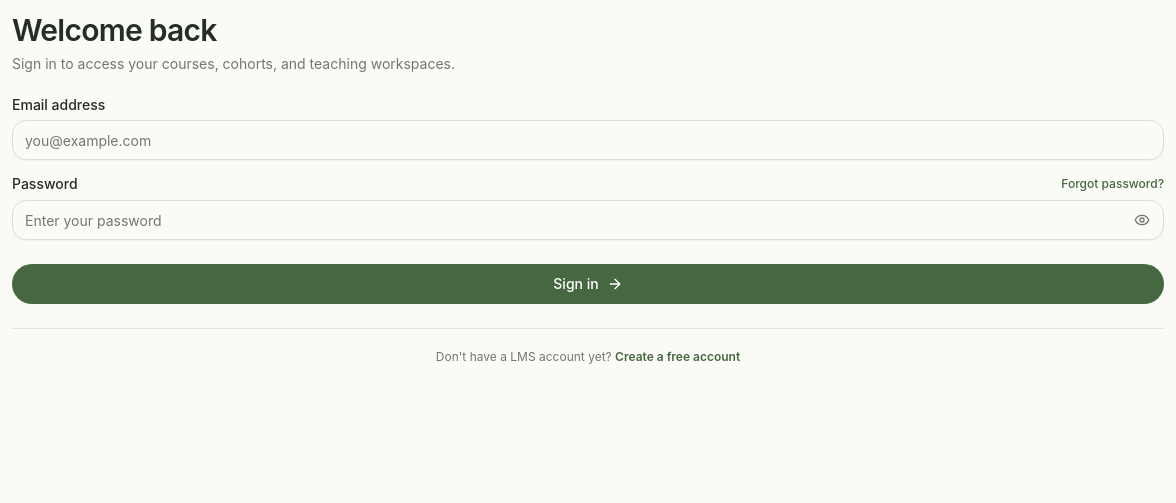
Auth forms (Zod validation + TanStack Query mutations) › renders an accessible alert banner with requestId when LoginForm encounters an ApiError
Type "learner@example.com" into the field labelled "Email address" at (588, 140), box [12,120,1164,160]
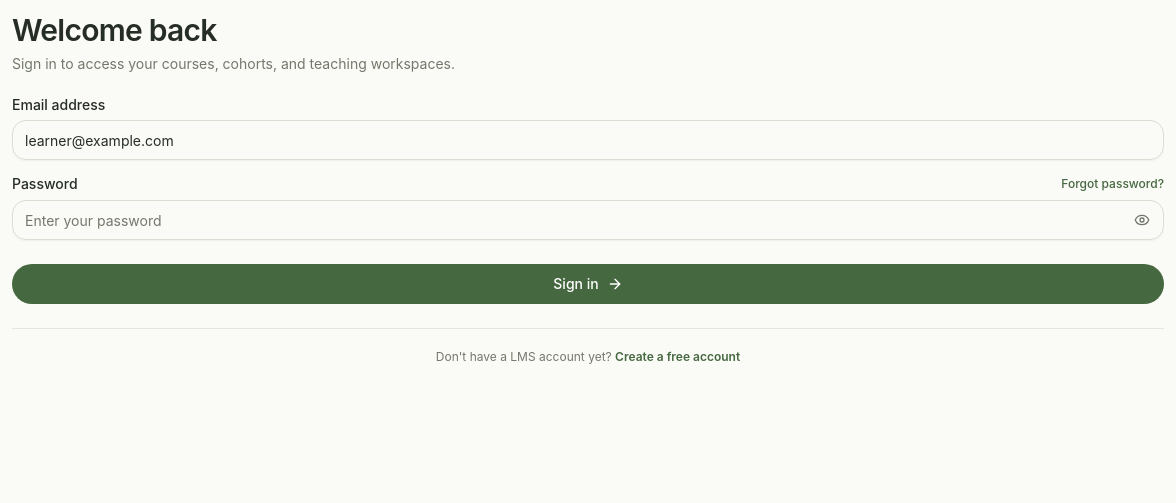
Type "wrong-password-123" into the password field labelled "Password" at (588, 220), box [12,200,1164,240]
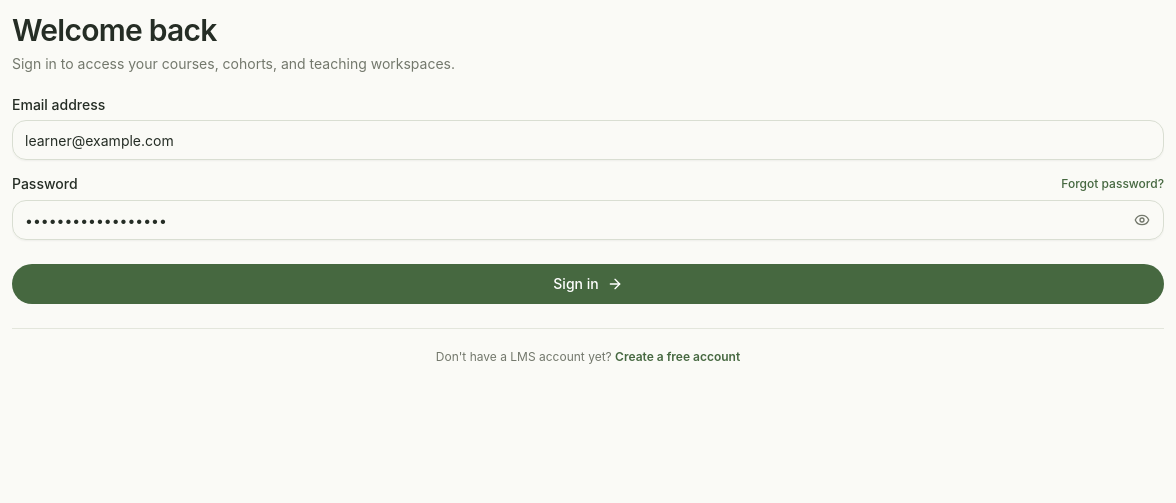
Click the button "Sign in" at (588, 284), box [12,264,1164,304]
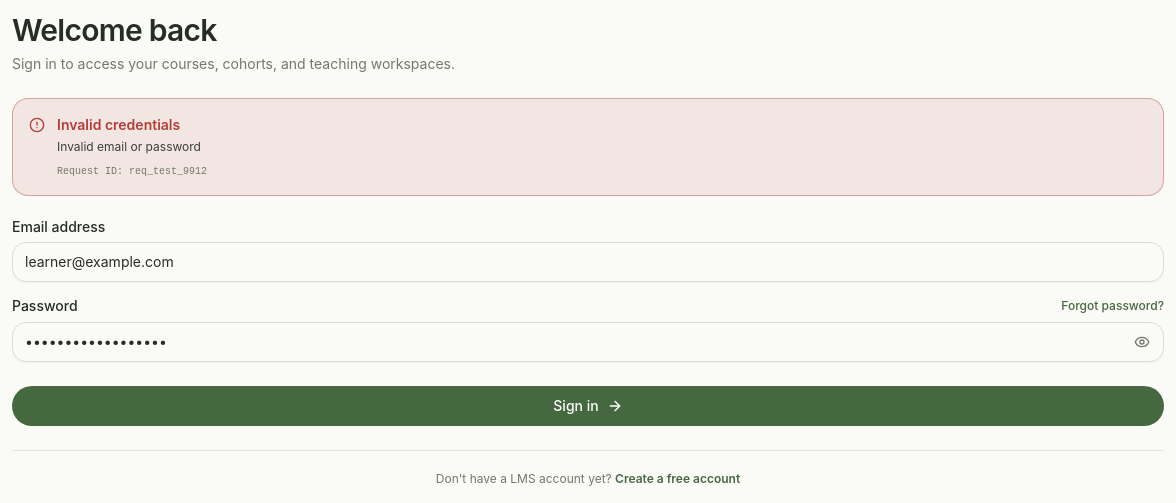
Now the message shows "Invalid credentials", box [57,116,180,133]
Now the message shows "Invalid email or password", box [57,139,201,154]
Now the message shows "req_test_9912", box [129,166,207,176]
